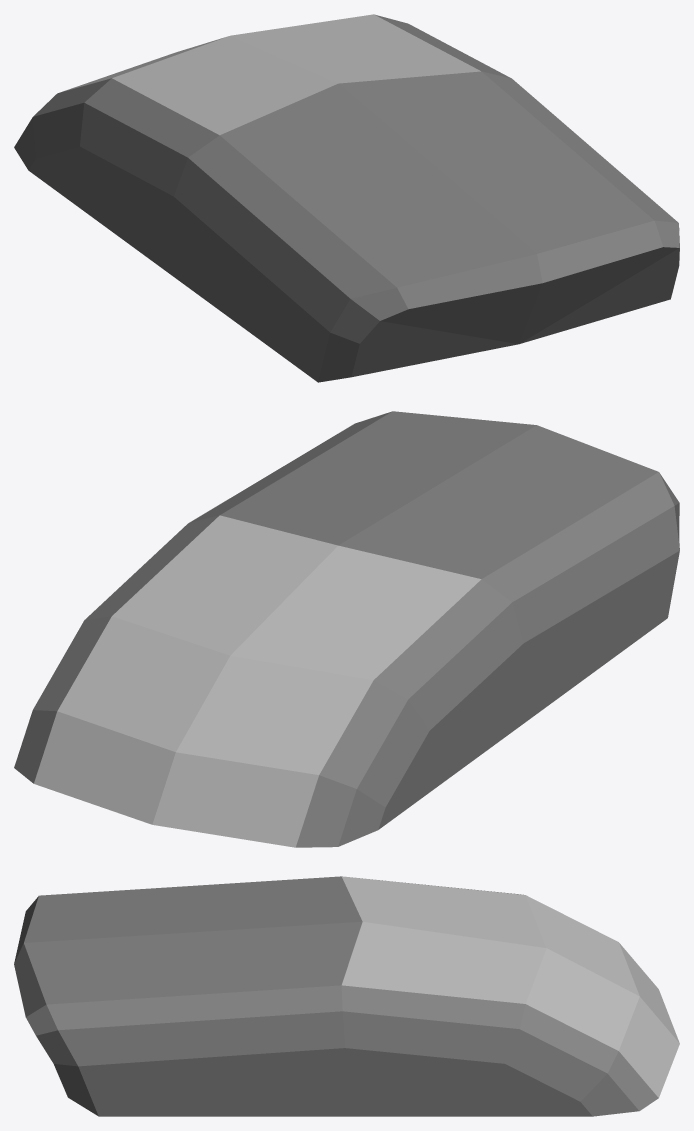
The model's file is mouse.glb.
3 renders of one model, top to bottom at view 1: azimuth 30°, elevation 25°; view 2: azimuth 150°, elevation 25°; view 3: azimuth 270°, elevation 25°, orthographic. The views are drawn at different scales.
Visible parts, largest first — view 1: Mouse; view 2: Mouse; view 3: Mouse.
Part boxes in pixels (left/top/right/bottom): Mouse: left=14, top=14, right=679, bottom=382; Mouse: left=14, top=411, right=679, bottom=847; Mouse: left=14, top=876, right=679, bottom=1116.
Size of the model in its own units: 7.48 by 2.93 by 14.47.
1 material, 1 textured.
